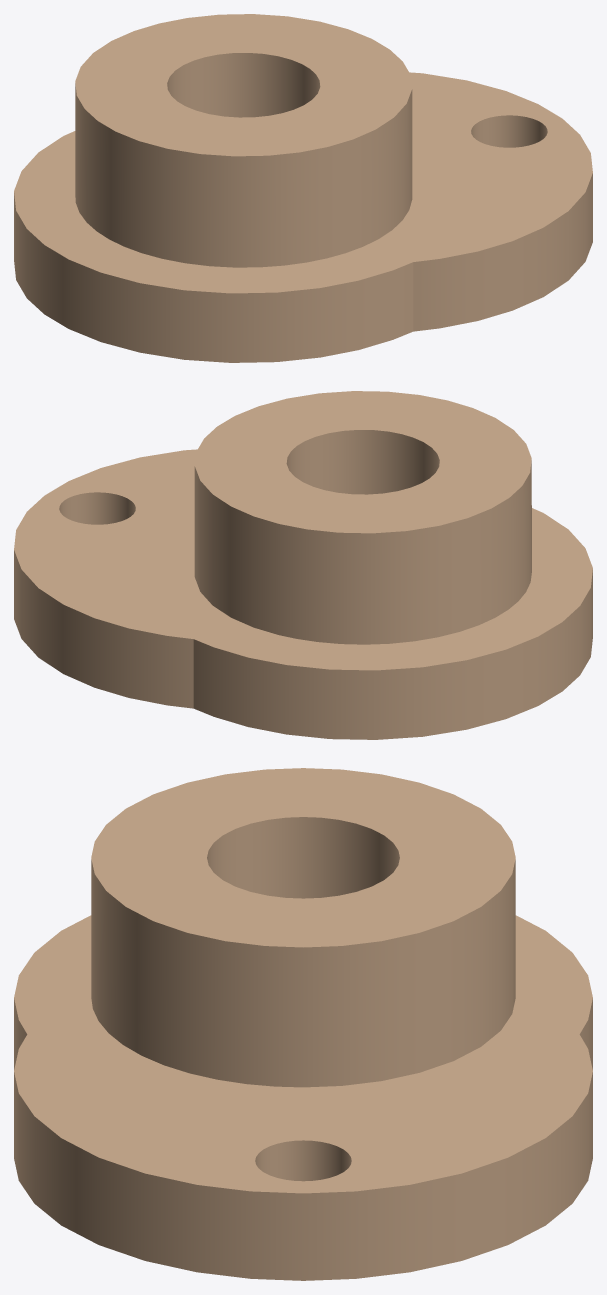
The model's file is 10_eccentric_cam.glb.
3 views of the same model, one above another, from view 1: azimuth 30°, elevation 25°; view 2: azimuth 150°, elevation 25°; view 3: azimuth 270°, elevation 25° (orthographic). The views are drawn at different scales.
Parts seen in each view (by area): view 1: body; view 2: body; view 3: body.
Boxes of the visible parts, x1=… form: body: x1=14, y1=14, x2=592, y2=362; body: x1=14, y1=391, x2=592, y2=739; body: x1=14, y1=768, x2=592, y2=1280.
Bounding box in the file's own units: 39 × 13 × 30.
